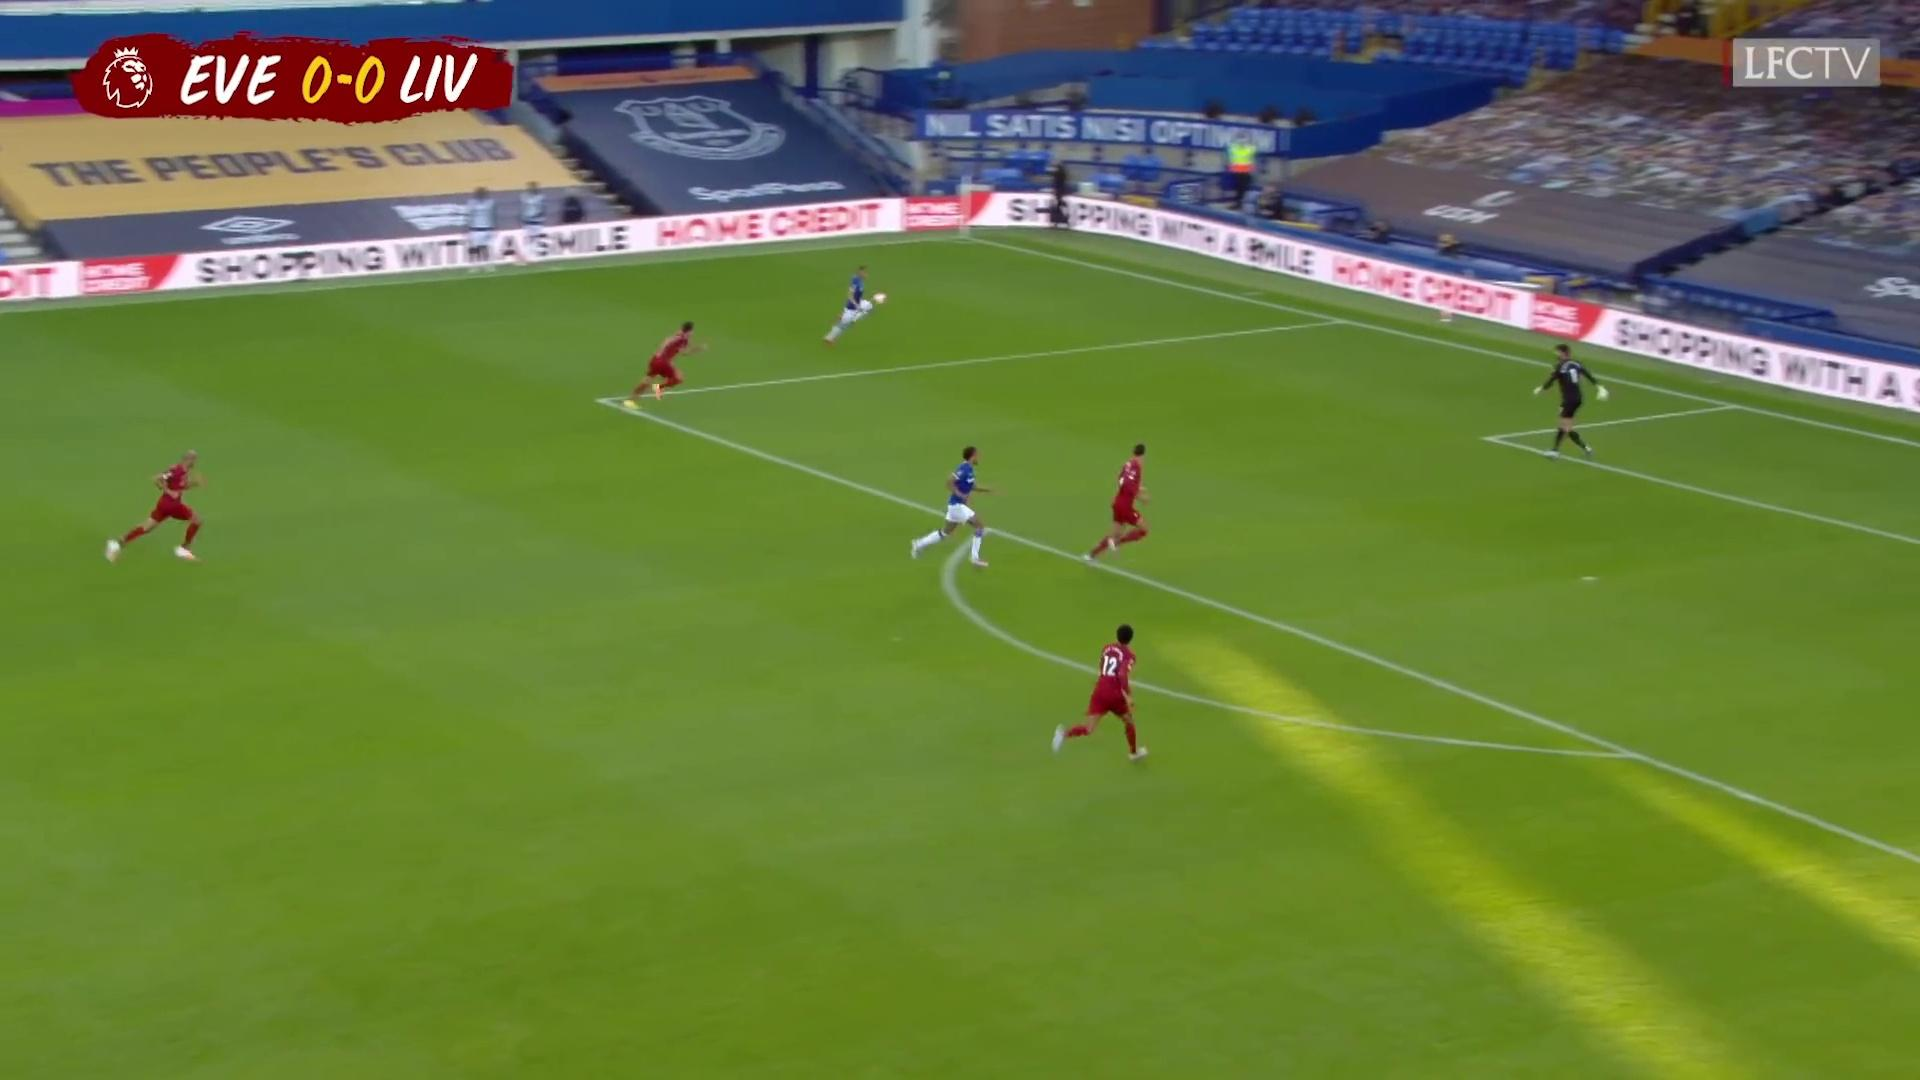ball: (1437, 299, 1459, 329), (870, 289, 889, 308)
goalkeeper: (1530, 339, 1612, 463)
player: (1047, 617, 1152, 765), (100, 444, 212, 569), (907, 440, 994, 575), (1078, 436, 1162, 570), (620, 318, 714, 416), (817, 262, 876, 349), (460, 183, 504, 277), (516, 177, 553, 269)
